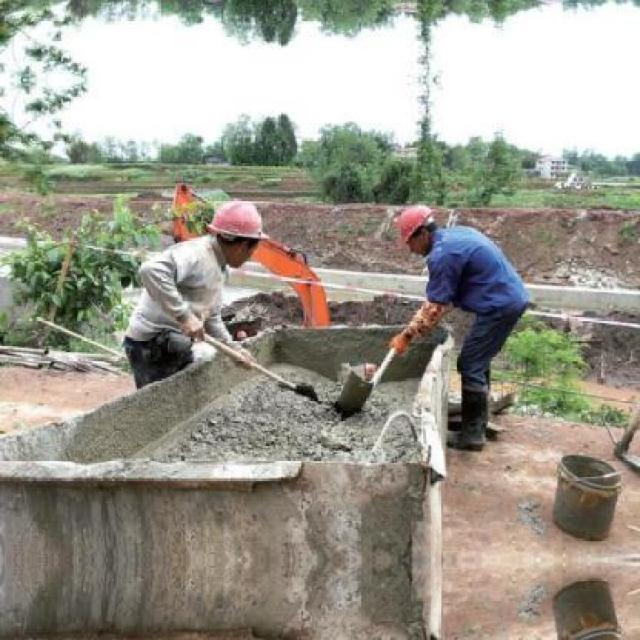helmet: (205, 197, 269, 248), (394, 203, 438, 243)
